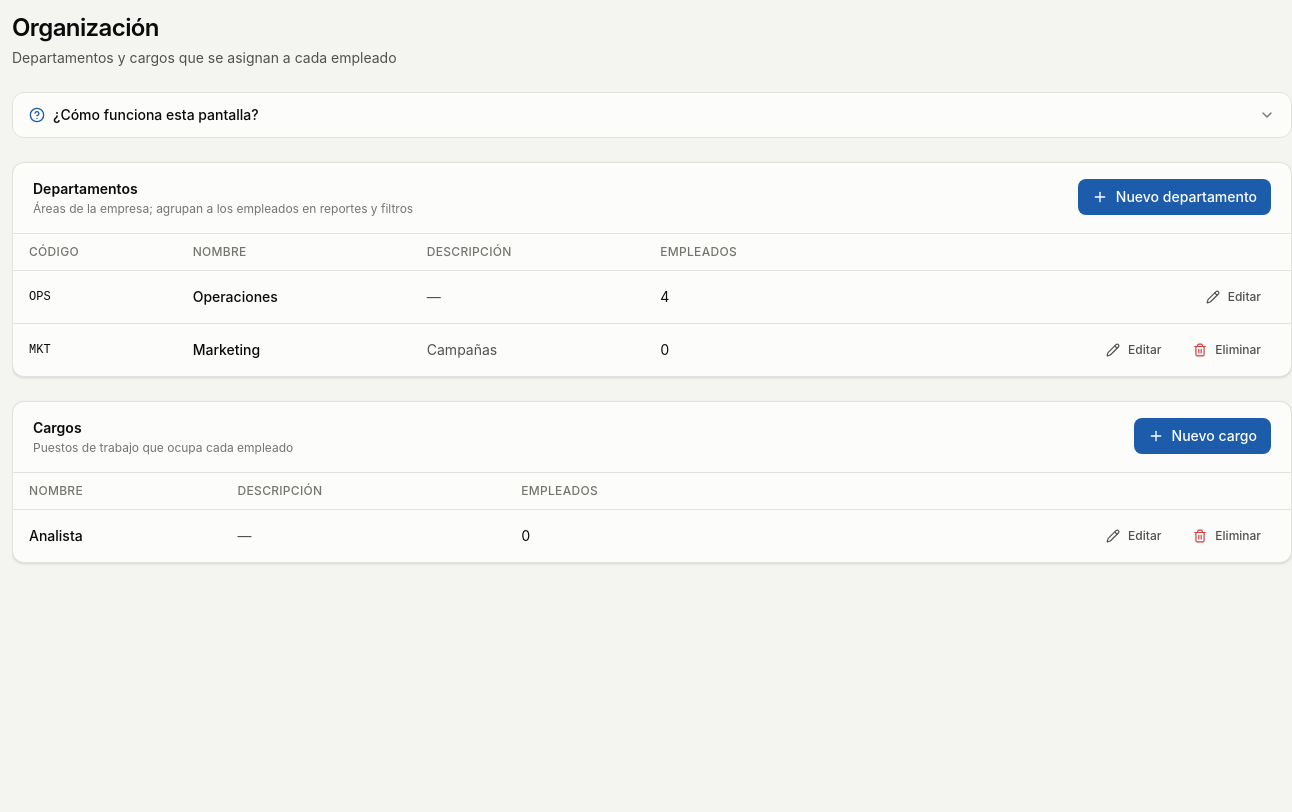
Test: OrganizationPage › explains a duplicate name in plain words
Click the button "Nuevo cargo" at (1202, 436), box left=1134, top=418, right=1271, bottom=454
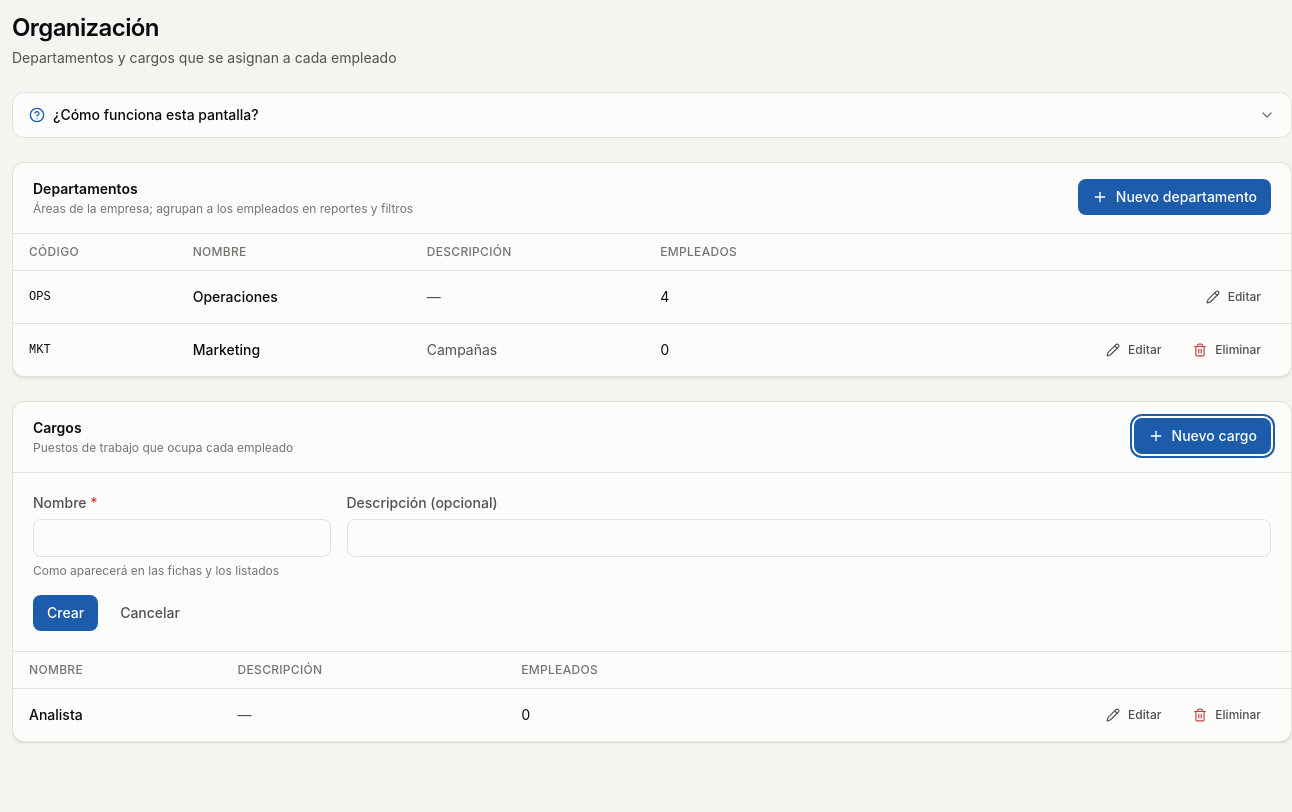
Type "Analista" into the field labelled "Nombre" at (182, 538), box left=33, top=519, right=330, bottom=557
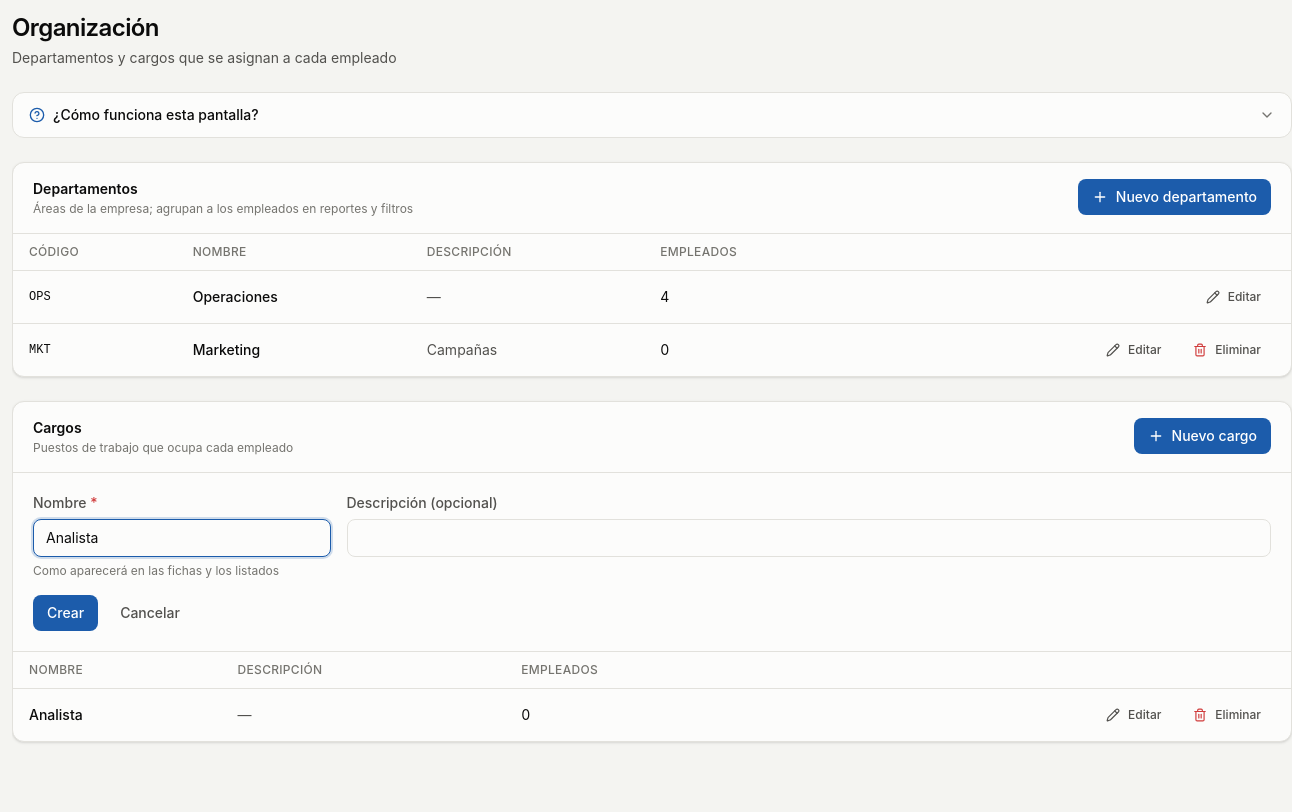
Click the button "Crear" at (66, 613), box left=33, top=595, right=98, bottom=631
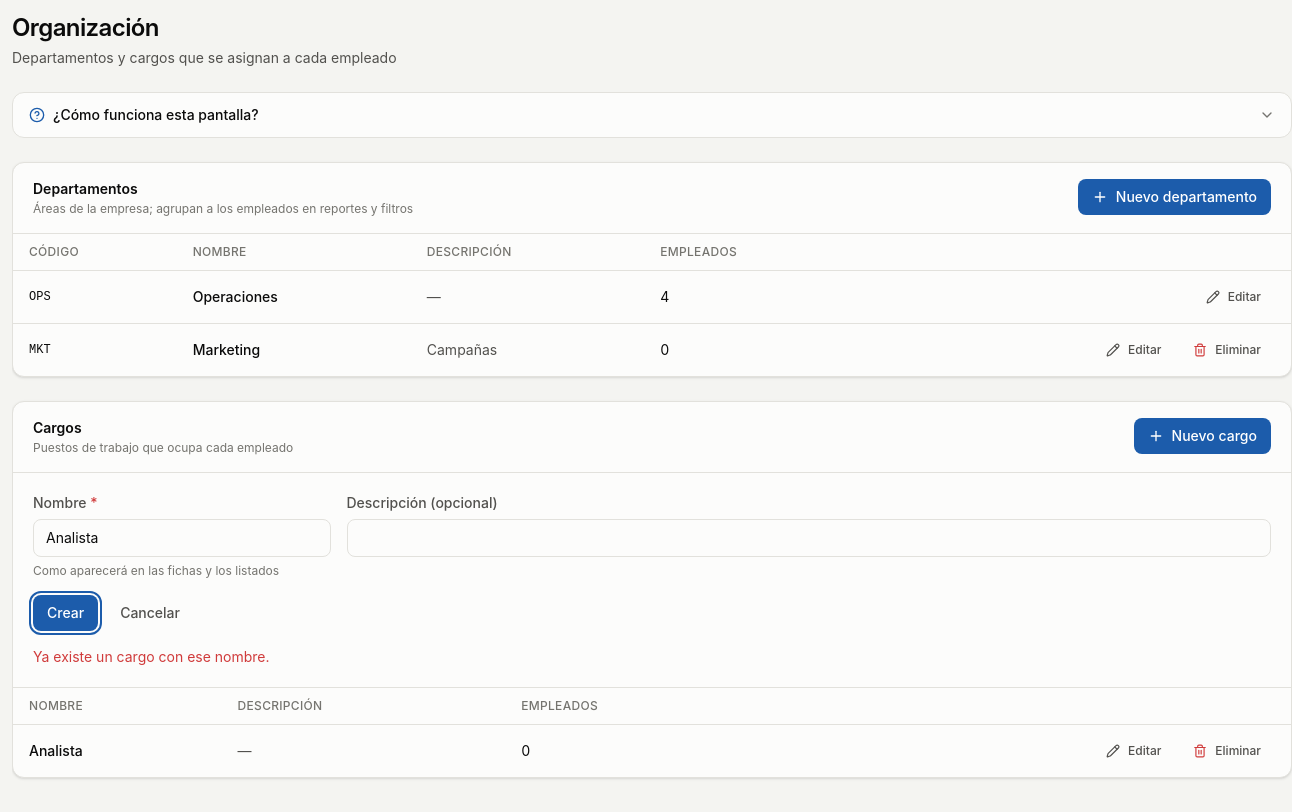
Now the message reads "Ya existe un cargo con ese nombre.", box left=33, top=648, right=270, bottom=665
